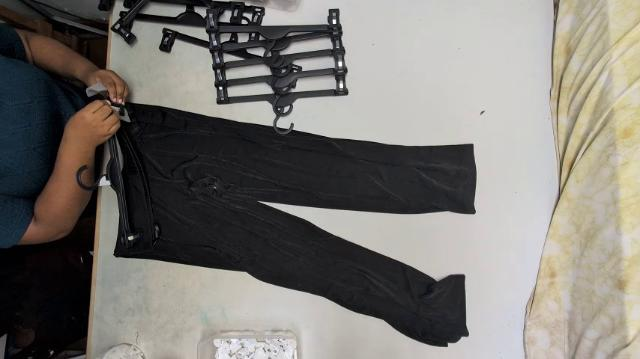new-garment: (112, 103, 476, 346)
